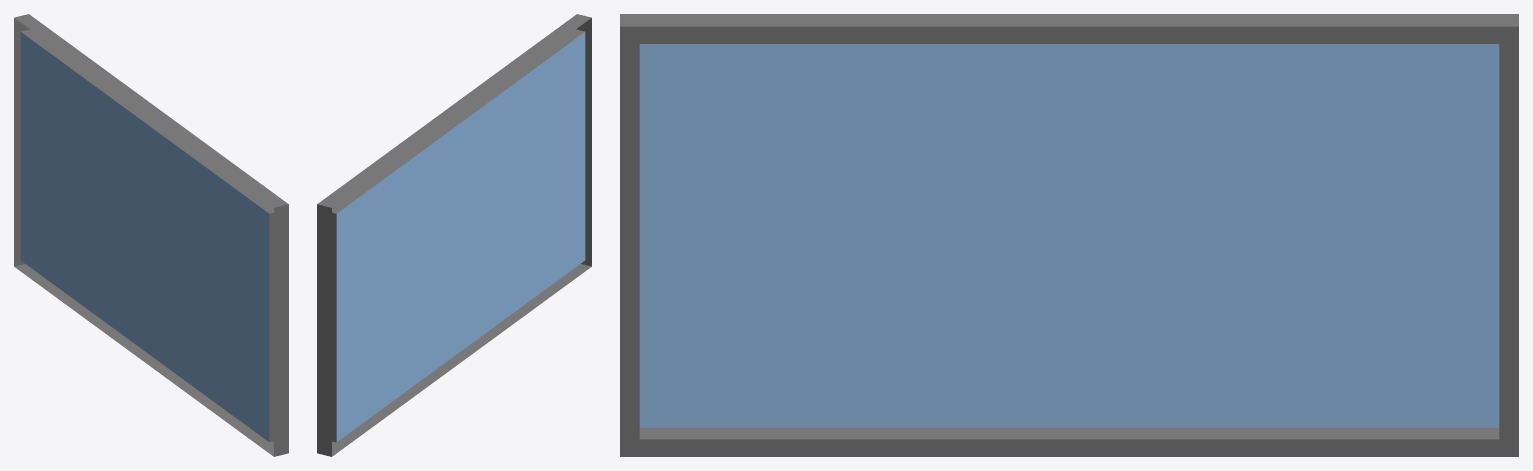
The model's file is P_Window_03.dae.
3 views of the same model, side by side, from view 1: azimuth 30°, elevation 25°; view 2: azimuth 150°, elevation 25°; view 3: azimuth 270°, elevation 25° (orthographic). The views are drawn at different scales.
Parts seen in each view (by area): view 1: Window_03; view 2: Window_03; view 3: Window_03.
Part boxes in pixels (left/top/right/bottom): Window_03: left=14, top=14, right=288, bottom=456; Window_03: left=317, top=14, right=591, bottom=456; Window_03: left=620, top=14, right=1518, bottom=456.
Bounding box in the file's own units: 0.0994 × 3.01 × 1.59.
